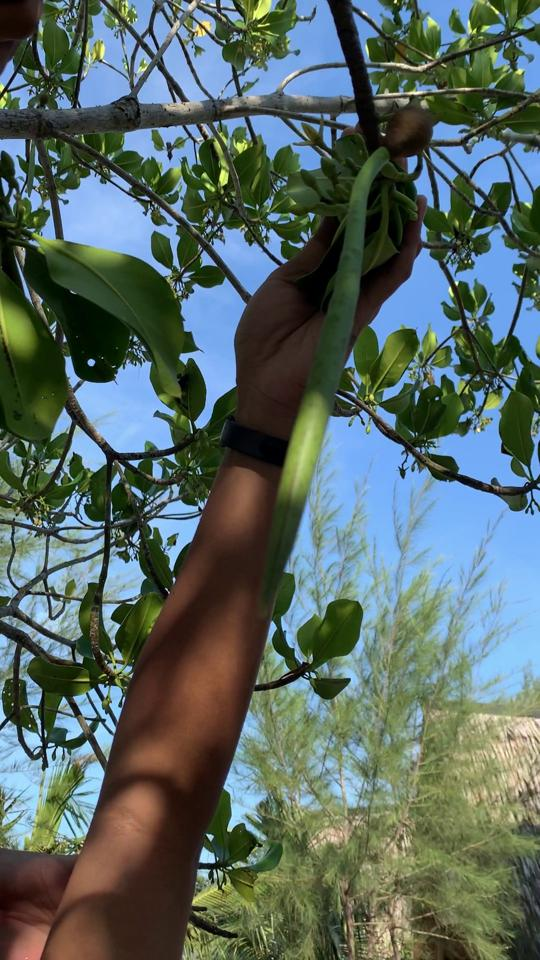mentah: (241, 93, 448, 637)
